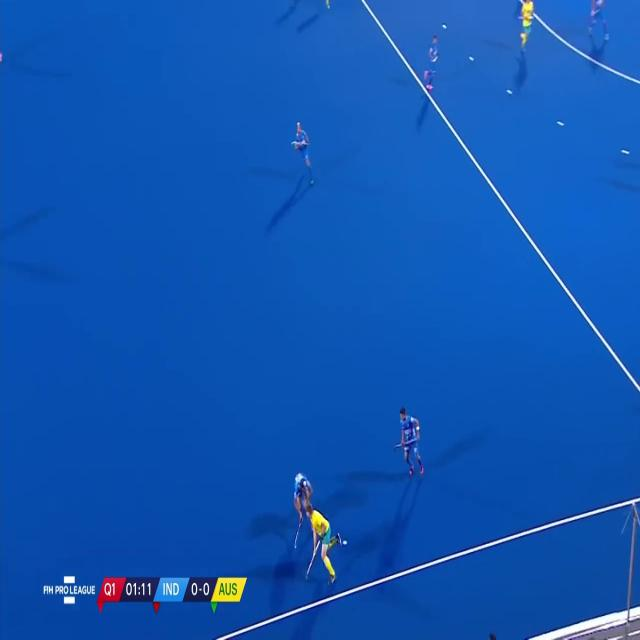ball: (341, 537, 349, 548)
